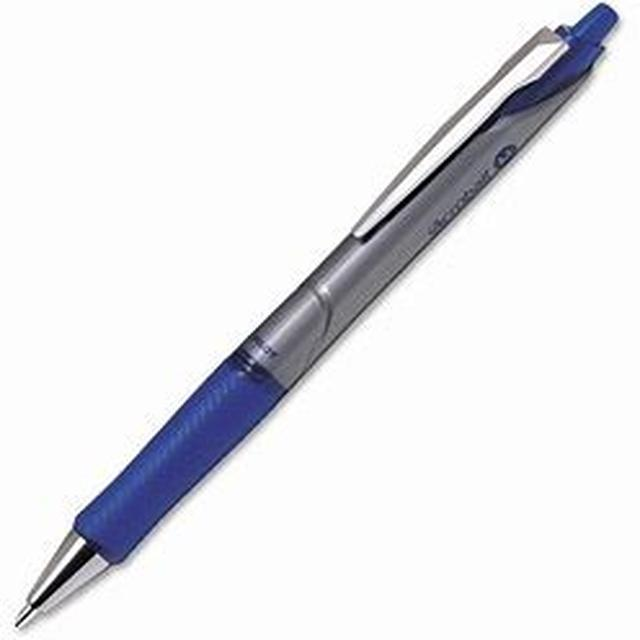pen: (12, 1, 631, 634)
